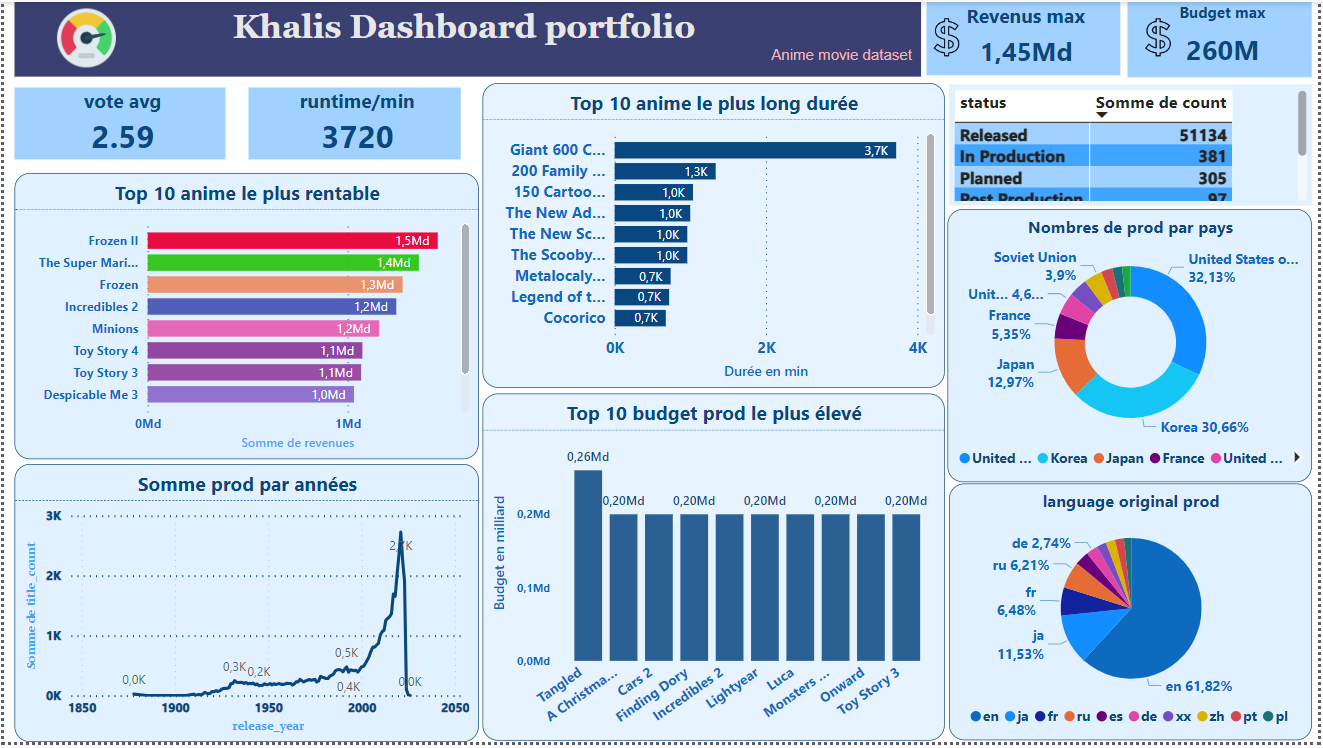

The page's visual inventory and layout, read from the dashboard file:
{"tool":"powerbi","page":{"name":"Page 1","canvas":[1280,720],"ordinal":0},"visuals":[{"type":"textbox","box":[10.6,0,882.8,72.7],"z":0},{"type":"image","box":[37.9,0,84.8,69.7],"z":1000},{"type":"card","title":"Revenus max","fields":{"Values":["max_revenu.max_revenue"]},"box":[898.2,0,188.4,71.6],"z":2000},{"type":"card","title":"Budget max","fields":{"Values":["max_budget.max_budget"]},"box":[1093.9,0,179.6,73],"z":3000},{"type":"barChart","title":"Top 10 anime le plus rentable","fields":{"Y":["max_rentable.revenue"],"Category":["max_rentable.title"]},"box":[10.6,167.1,452.2,278.5],"z":4000},{"type":"pieChart","title":"language original prod","fields":{"Category":["nbs_status.original_language"],"Y":["nbs_status.count"]},"box":[920.1,468.8,353.4,249.7],"z":5000},{"type":"donutChart","title":"Nombres de prod par pays","fields":{"Category":["prod_countries.production_countries"],"Y":["prod_countries.count"]},"box":[918.6,201.5,354.9,265.8],"z":6000},{"type":"tableEx","fields":{"Values":["nbs_lang_orig.status","nbs_lang_orig.count"]},"box":[920.1,80.3,353.4,118.3],"z":7000},{"type":"lineChart","title":"Somme prod par années","fields":{"Category":["annees_prod.release_year"],"Y":["annees_prod.title_count"]},"box":[10.6,449.5,452.2,270.5],"z":8000},{"type":"clusteredColumnChart","title":"Top 10 budget prod le plus élevé ","fields":{"Category":["budget_max.title"],"Y":["budget_max.budget"]},"box":[466.4,381.6,449.7,337.7],"z":9000},{"type":"barChart","title":"Top 10 anime le plus long durée ","fields":{"Category":["long_durees.title"],"Y":["long_durees.runtime"]},"box":[466.4,78.7,449.7,296.8],"z":10000},{"type":"image","box":[1098.3,5,50,60],"z":11000},{"type":"image","box":[891.7,5,50,60],"z":12000},{"type":"card","title":"vote avg","fields":{"Values":["moyenne_vote.vote_min"]},"box":[10.6,83.5,205.5,70.3],"z":13000},{"type":"card","title":"runtime/min","fields":{"Values":["max_duree.max_runtime"]},"box":[237.3,83.5,206.9,70.3],"z":14000}]}

Visuals, with their boxes in screenshot pixels (x1, y1, x2, y2), scaled from the page's 1280x720 canvas onto the 1323x748 screenshot:
textbox: l=11, t=0, r=923, b=76
image: l=39, t=0, r=127, b=72
"Revenus max" card: l=928, t=0, r=1123, b=74
"Budget max" card: l=1131, t=0, r=1316, b=76
"Top 10 anime le plus rentable" barChart: l=11, t=174, r=478, b=463
"language original prod" pieChart: l=951, t=487, r=1316, b=746
"Nombres de prod par pays" donutChart: l=949, t=209, r=1316, b=485
tableEx - nbs_lang_orig.status x nbs_lang_orig.count: l=951, t=83, r=1316, b=206
"Somme prod par années" lineChart: l=11, t=467, r=478, b=747
"Top 10 budget prod le plus élevé " clusteredColumnChart: l=482, t=396, r=947, b=747
"Top 10 anime le plus long durée " barChart: l=482, t=82, r=947, b=390
image: l=1135, t=5, r=1187, b=68
image: l=922, t=5, r=973, b=68
"vote avg" card: l=11, t=87, r=223, b=160
"runtime/min" card: l=245, t=87, r=459, b=160
